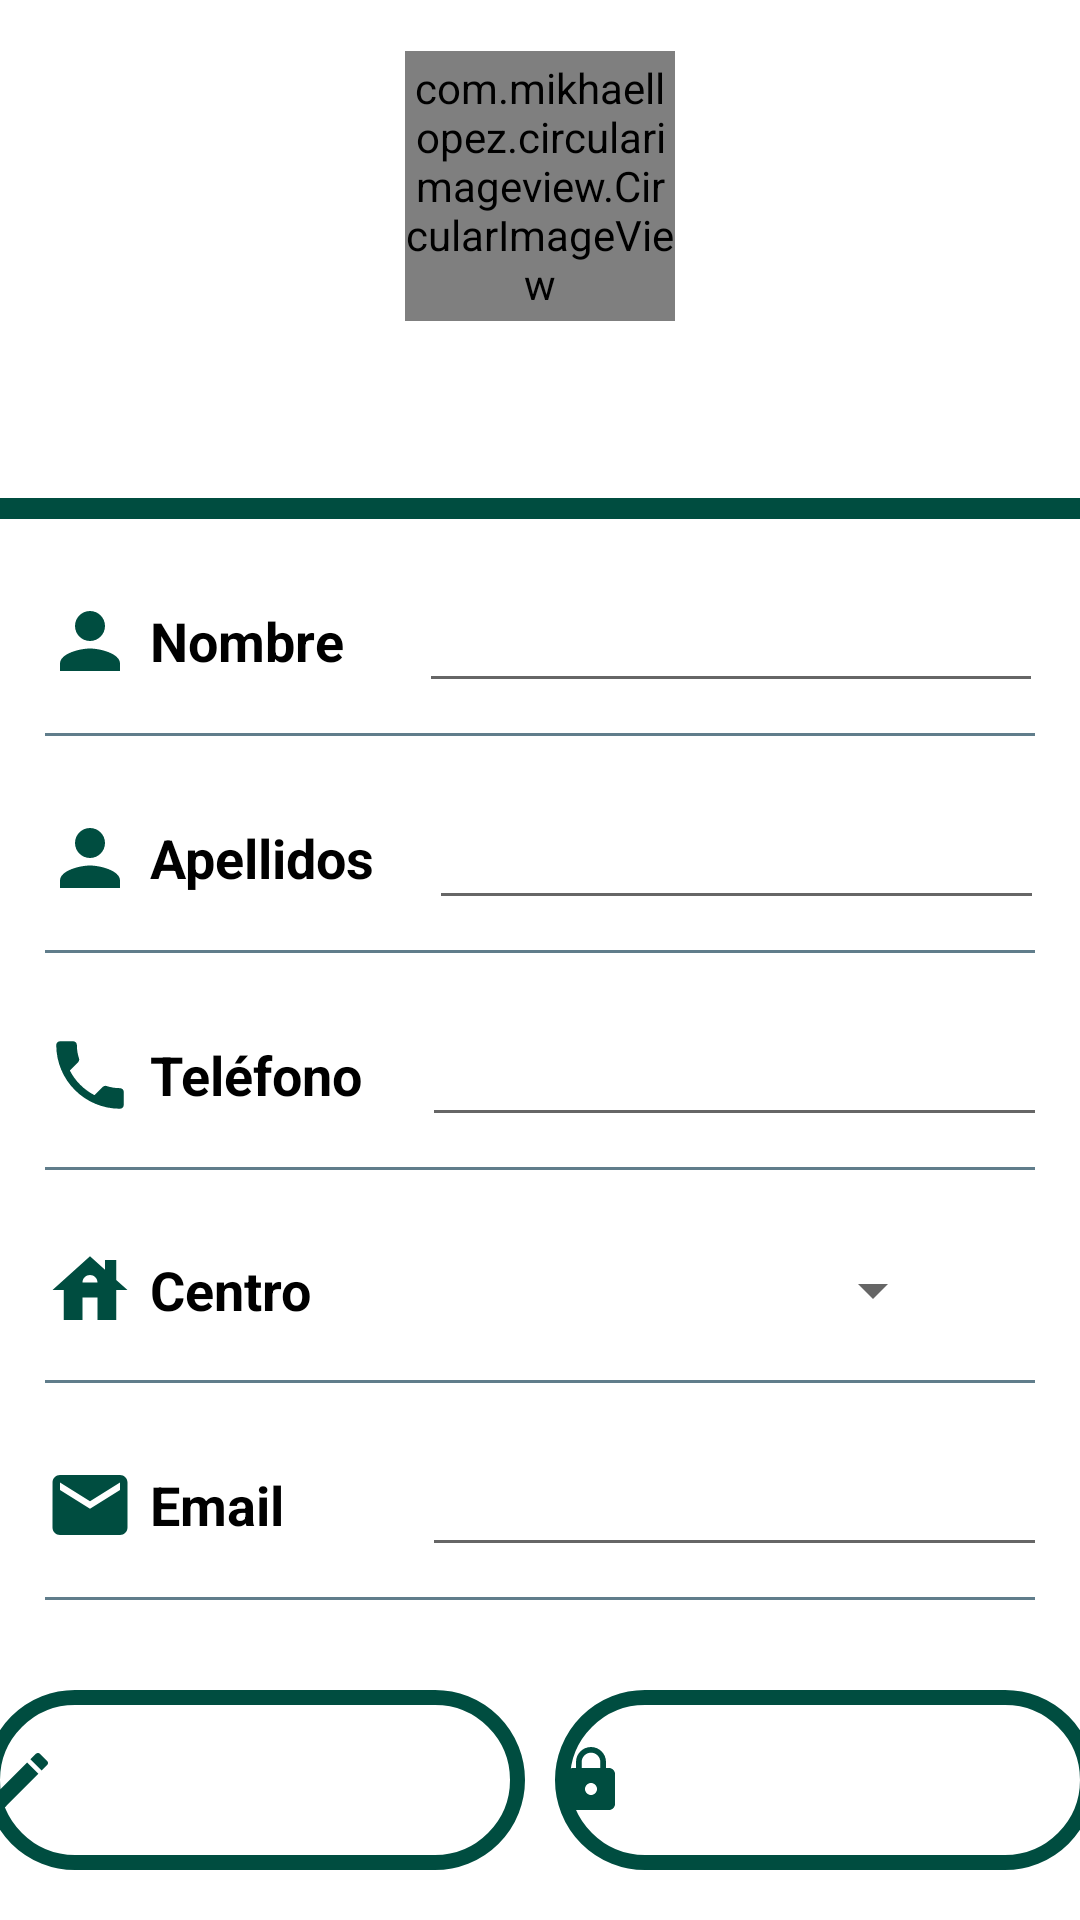

Named icons in this screenshot (1080px×1920px) and their centers, [x,y]:
person: [90,641], [90,858]
phone: [90,1075]
